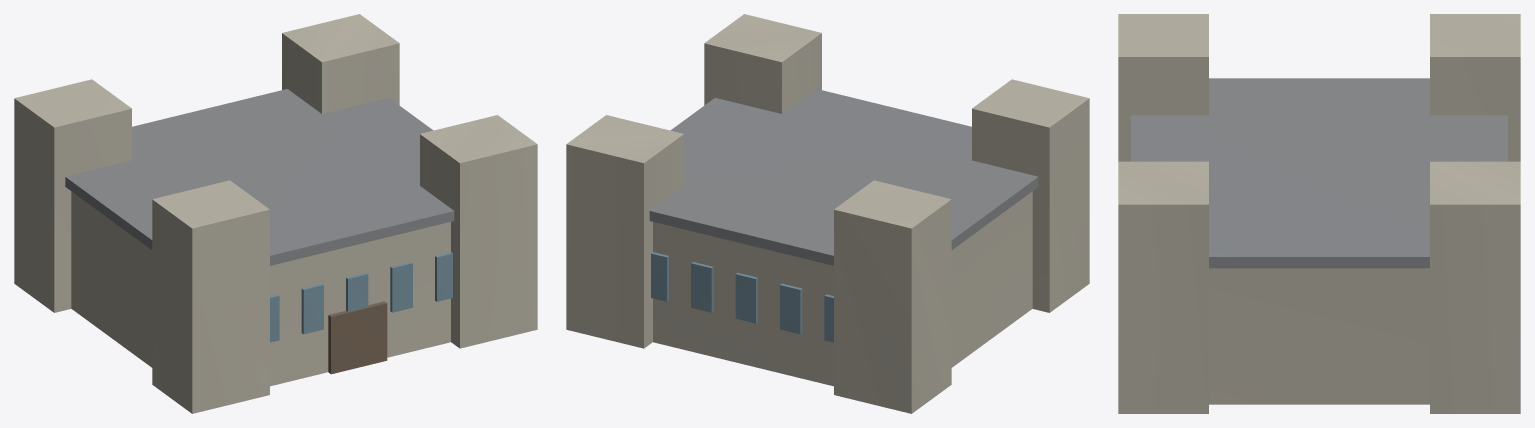
Rendered from fort-05.glb.
The picture shows the model from 3 angles, left to right: view 1: azimuth 30°, elevation 25°; view 2: azimuth 150°, elevation 25°; view 3: azimuth 270°, elevation 25°; orthographic projection. The views are drawn at different scales.
Parts seen in each view (by area): view 1: world; view 2: world; view 3: world.
Boxes of the visible parts, x1,y1,x2,y2 form: world: (14, 14, 537, 413); world: (566, 14, 1089, 413); world: (1118, 14, 1520, 413).
Size of the model in its own units: 2.52 by 1.29 by 2.25.
